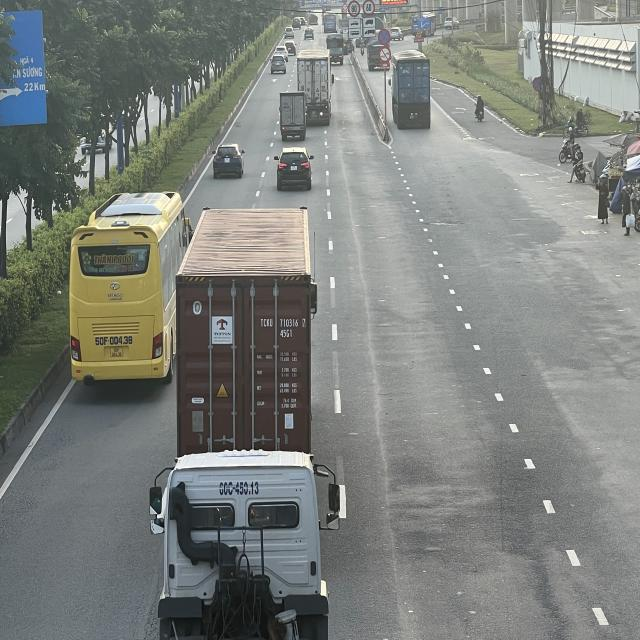car: (274, 146, 314, 190), (214, 145, 246, 180), (270, 54, 288, 77)
coach: (71, 189, 188, 386)
container: (176, 206, 319, 463), (153, 451, 345, 640), (390, 49, 433, 127), (296, 48, 331, 123)
truck: (280, 91, 308, 140)
